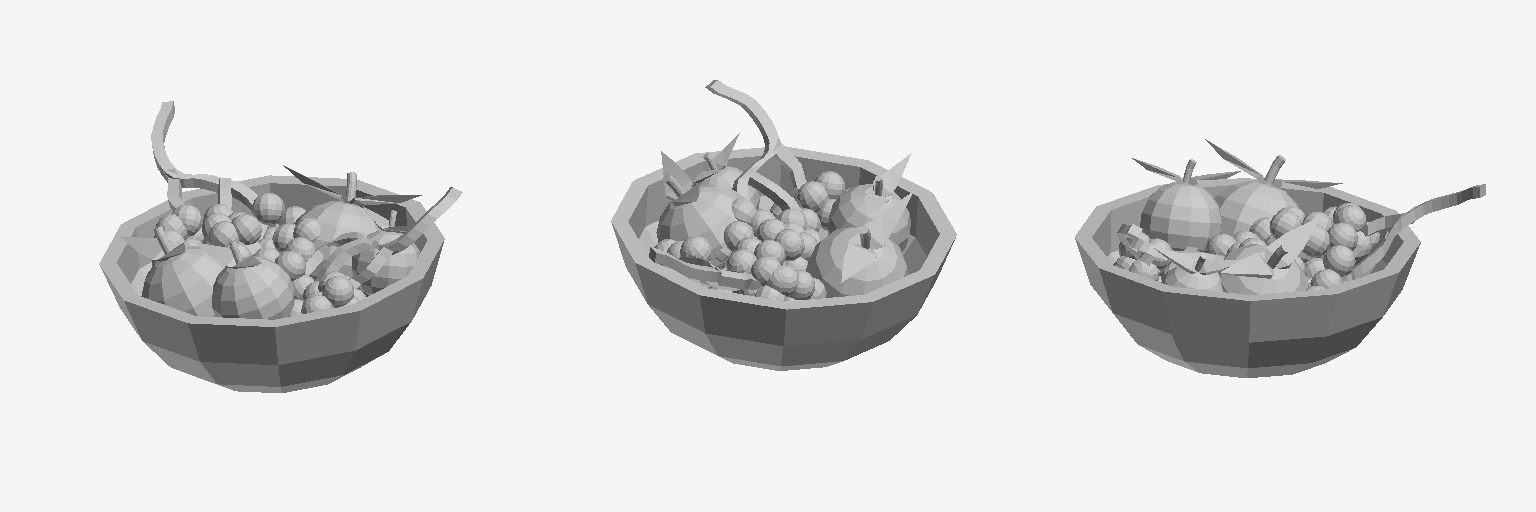
The model's file is bowlWithVegetables.obj.
3 views of the same model, side by side, from view 1: azimuth 30°, elevation 25°; view 2: azimuth 150°, elevation 25°; view 3: azimuth 270°, elevation 25° (orthographic).
Parts seen in each view (by area): view 1: group[number redacted], group[number redacted], group[number redacted], group[number redacted], group[number redacted], group[number redacted], group[number redacted]; view 2: group[number redacted], group[number redacted], group[number redacted], group[number redacted], group[number redacted], group[number redacted], group[number redacted]; view 3: group[number redacted], group[number redacted], group[number redacted], group[number redacted], group[number redacted], group[number redacted], group[number redacted].
Boxes of the visible parts, x1,y1,x2,y2 form: group[number redacted]: [99, 175, 444, 392]; group[number redacted]: [151, 101, 305, 266]; group[number redacted]: [253, 187, 462, 316]; group[number redacted]: [196, 241, 293, 319]; group[number redacted]: [120, 226, 224, 316]; group[number redacted]: [283, 165, 421, 296]; group[number redacted]: [352, 206, 419, 295]; group[number redacted]: [611, 146, 956, 370]; group[number redacted]: [649, 219, 826, 301]; group[number redacted]: [705, 80, 849, 267]; group[number redacted]: [806, 191, 913, 297]; group[number redacted]: [656, 151, 746, 268]; group[number redacted]: [828, 153, 911, 251]; group[number redacted]: [693, 133, 759, 209]; group[number redacted]: [1075, 178, 1420, 377]; group[number redacted]: [1249, 184, 1485, 290]; group[number redacted]: [1132, 158, 1240, 252]; group[number redacted]: [1218, 216, 1320, 294]; group[number redacted]: [1205, 139, 1342, 236]; group[number redacted]: [1113, 224, 1305, 280]; group[number redacted]: [1153, 247, 1239, 291].
Bounding box in the file's own units: 0.4488 × 0.2644 × 0.5334.